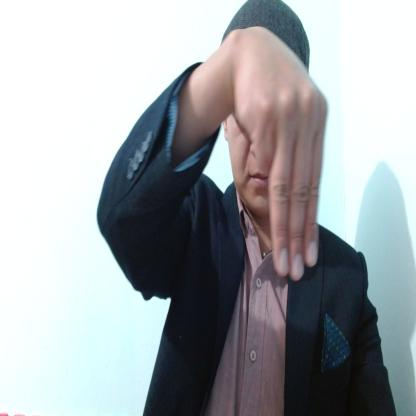M: (232, 28, 328, 279)
